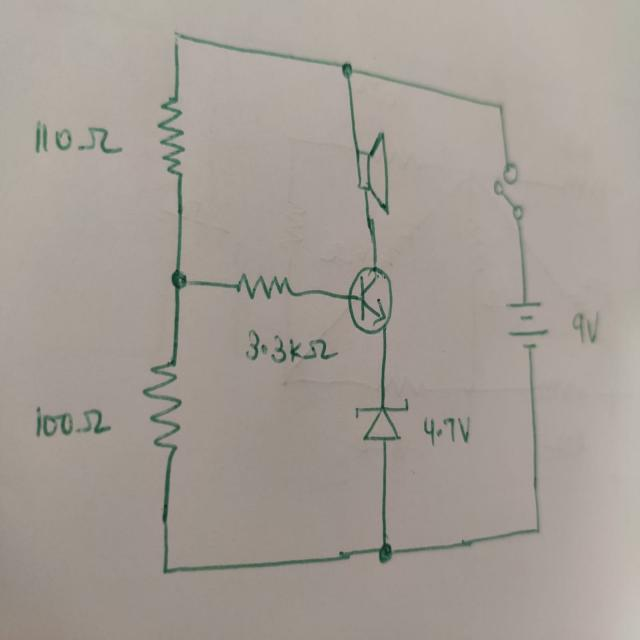diode: (354, 399, 408, 443)
junction: (374, 535, 400, 566), (170, 266, 188, 292), (170, 26, 186, 49), (492, 98, 508, 119), (529, 520, 545, 540), (158, 560, 172, 582), (340, 61, 354, 80)
resistor: (142, 358, 182, 453), (156, 95, 186, 178), (233, 272, 294, 299)
source: (505, 299, 545, 353)
switch: (490, 159, 526, 225)
text: (34, 119, 125, 156), (248, 328, 339, 362), (33, 403, 109, 437), (421, 415, 471, 442), (572, 311, 600, 343)
transistor: (346, 264, 393, 334)
